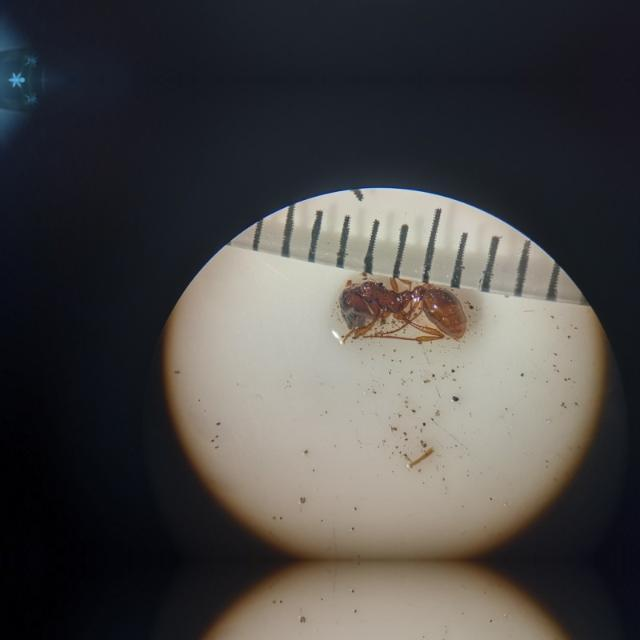Myrmica: (318, 262, 476, 352)
